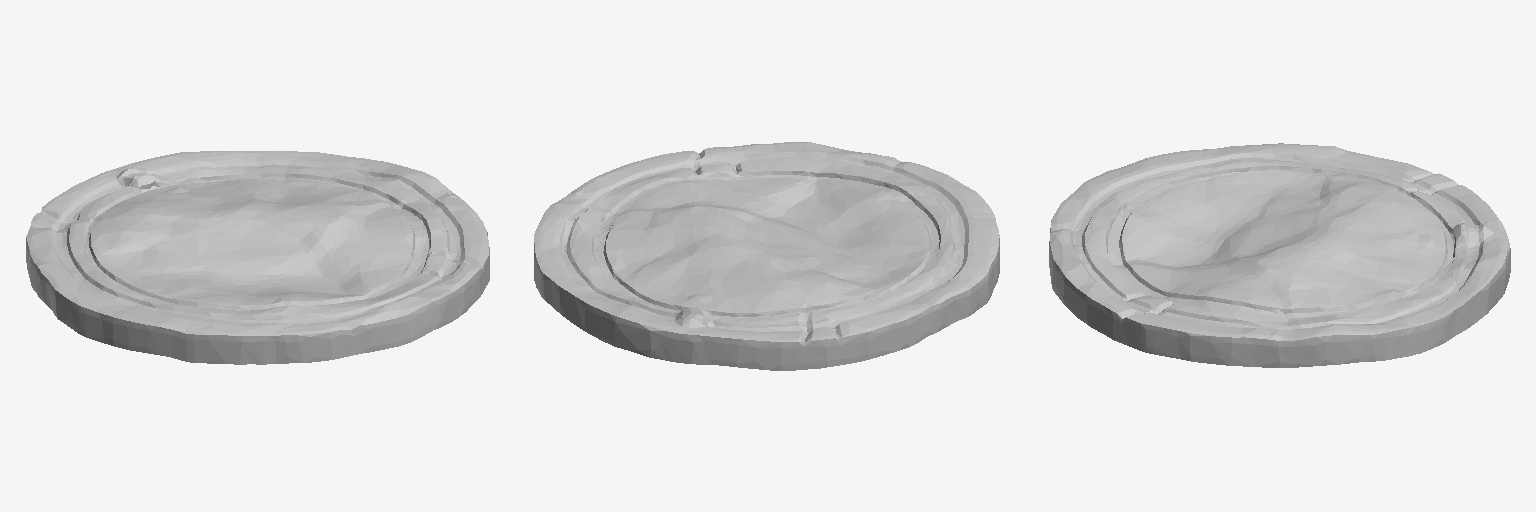
Rendered from ground.OBJ.
The picture shows the model from 3 angles: view 1: azimuth 30°, elevation 25°; view 2: azimuth 150°, elevation 25°; view 3: azimuth 270°, elevation 25°; orthographic projection.
Parts seen in each view (by area): view 1: Group43629; view 2: Group43629; view 3: Group43629.
Part boxes in pixels (x1,y1,x2,y2): Group43629: (26,151,489,364); Group43629: (534,142,999,370); Group43629: (1049,143,1510,367).
Size of the model in its own units: 5.77 by 0.7276 by 5.74.